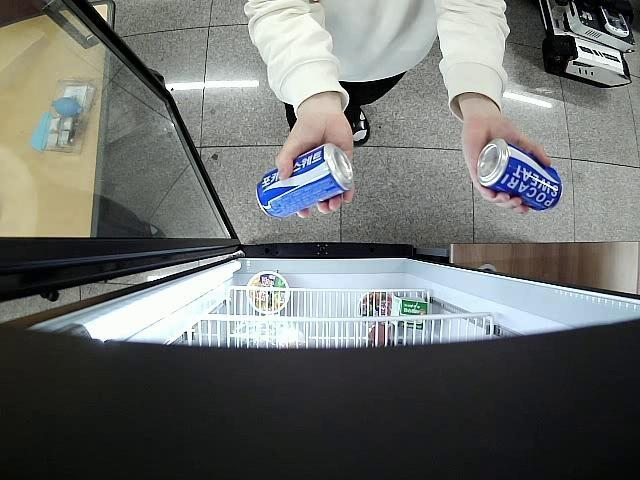13_pocariSweat: (255, 144, 354, 218), (476, 136, 563, 212)
